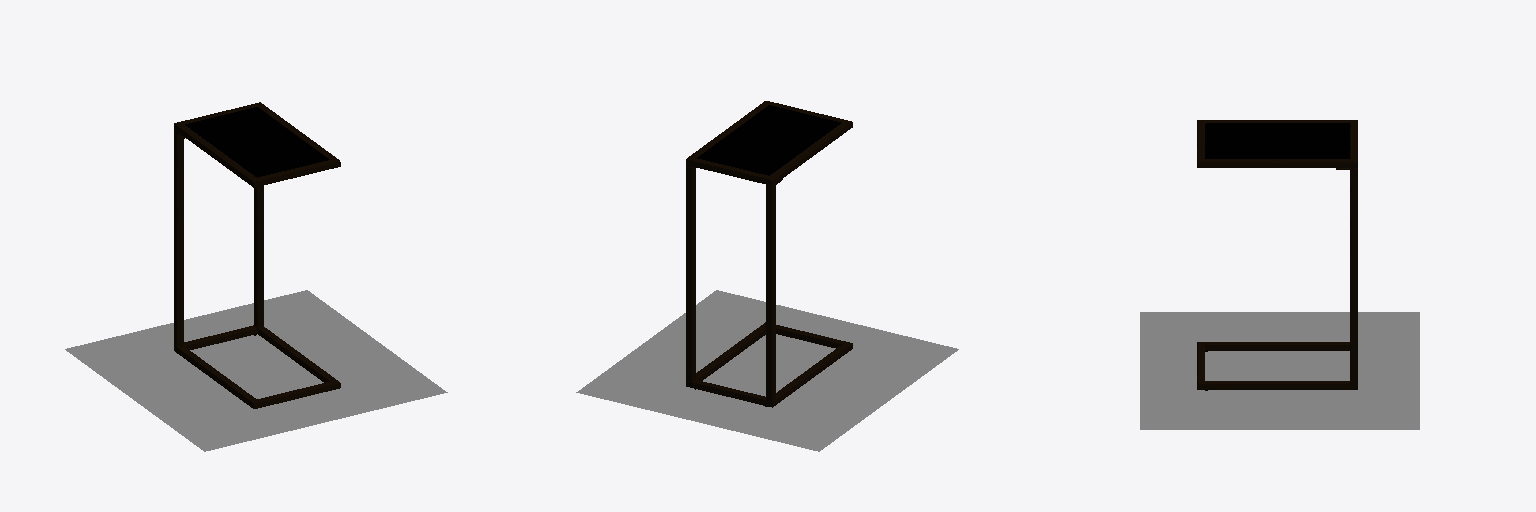
The model's file is ZPCD2910.obj.
3 views of the same model, side by side, from view 1: azimuth 30°, elevation 25°; view 2: azimuth 150°, elevation 25°; view 3: azimuth 270°, elevation 25° (orthographic).
Parts seen in each view (by area): view 1: shadow_plane_v6, not_clear_obj_0_v6, clear_obj_0_100_0_v6; view 2: shadow_plane_v6, not_clear_obj_0_v6, clear_obj_0_100_0_v6; view 3: shadow_plane_v6, not_clear_obj_0_v6, clear_obj_0_100_0_v6.
Part boxes in pixels (bbox=[...]): shadow_plane_v6: bbox=[65, 290, 447, 451]; not_clear_obj_0_v6: bbox=[174, 102, 340, 408]; clear_obj_0_100_0_v6: bbox=[185, 107, 328, 177]; shadow_plane_v6: bbox=[576, 290, 958, 451]; not_clear_obj_0_v6: bbox=[686, 101, 852, 407]; clear_obj_0_100_0_v6: bbox=[697, 105, 840, 175]; shadow_plane_v6: bbox=[1140, 312, 1419, 429]; not_clear_obj_0_v6: bbox=[1197, 120, 1357, 389]; clear_obj_0_100_0_v6: bbox=[1205, 123, 1349, 158].
Size of the model in its own units: 71.12 by 64.26 by 71.12.